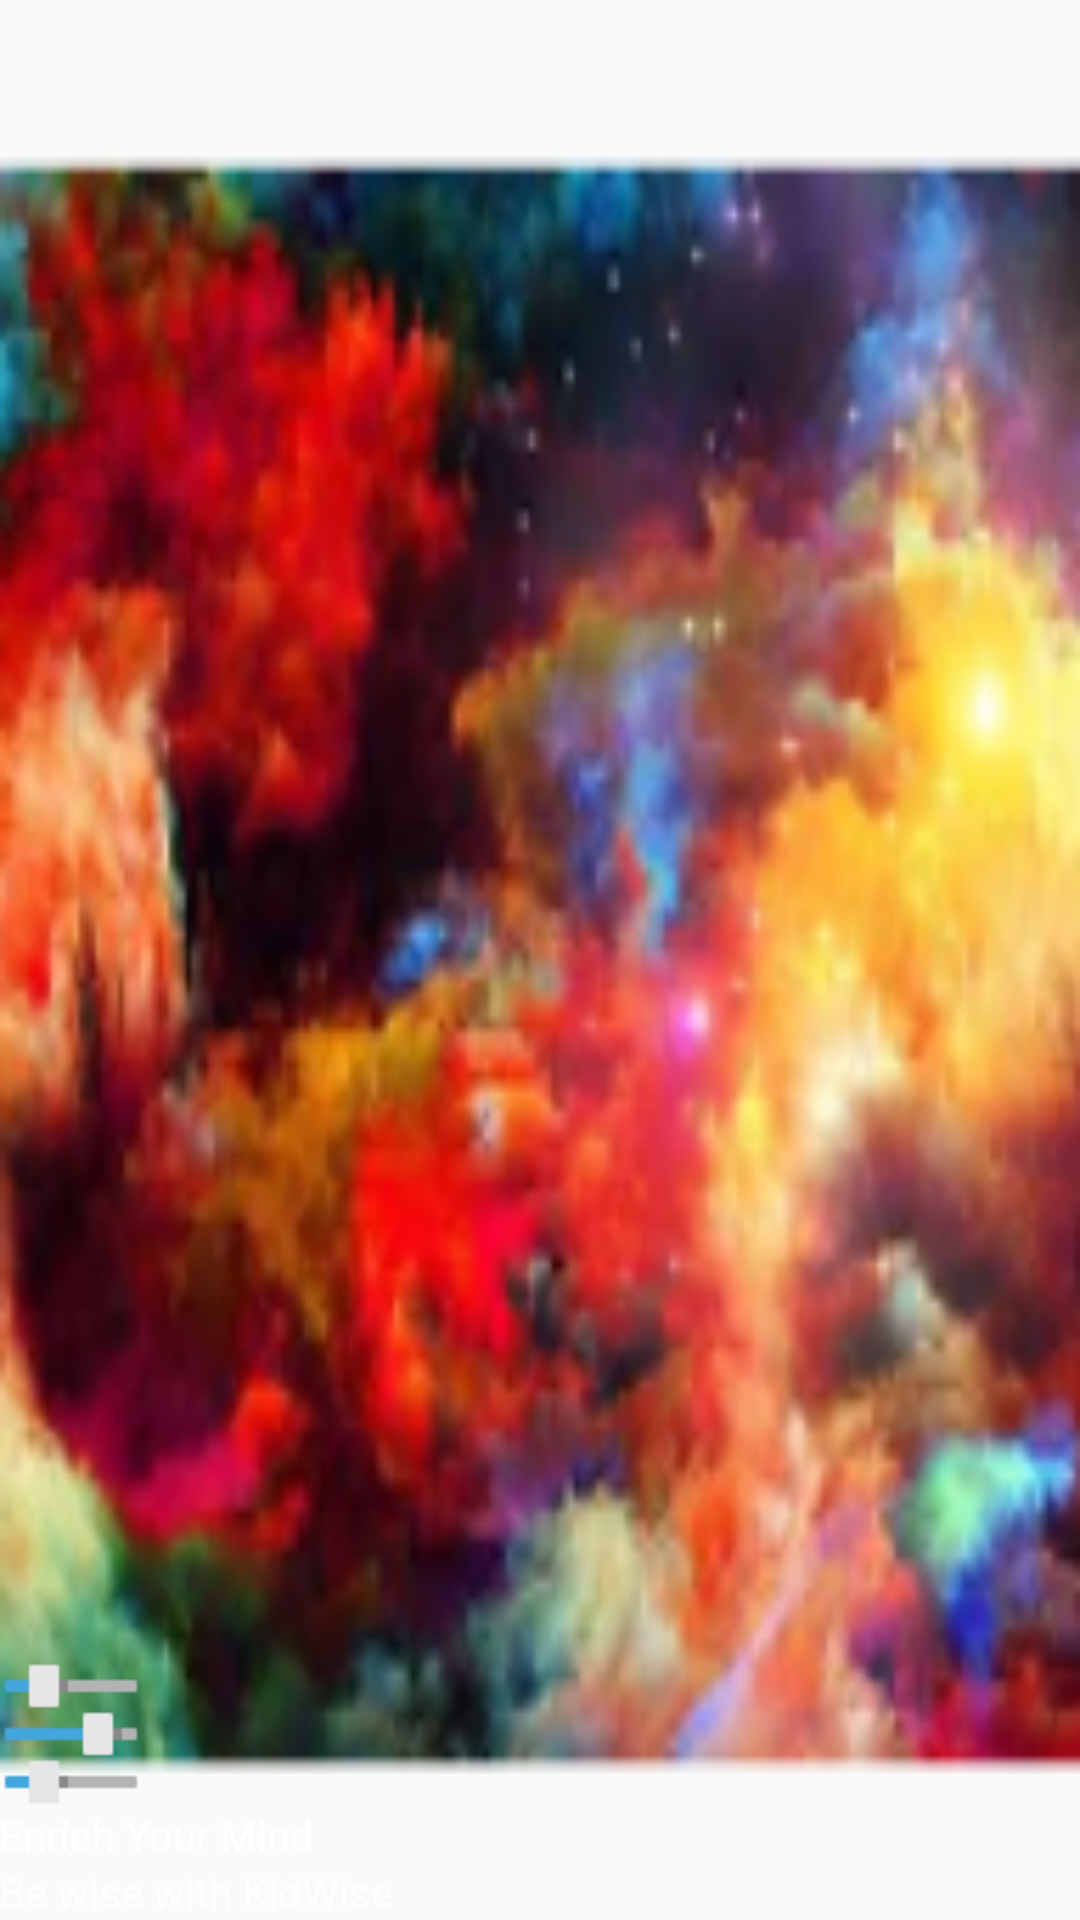

Icon click points for this 1080px×1920px phone screenshot, format point (x, y):
preferences: point (71, 1734)
